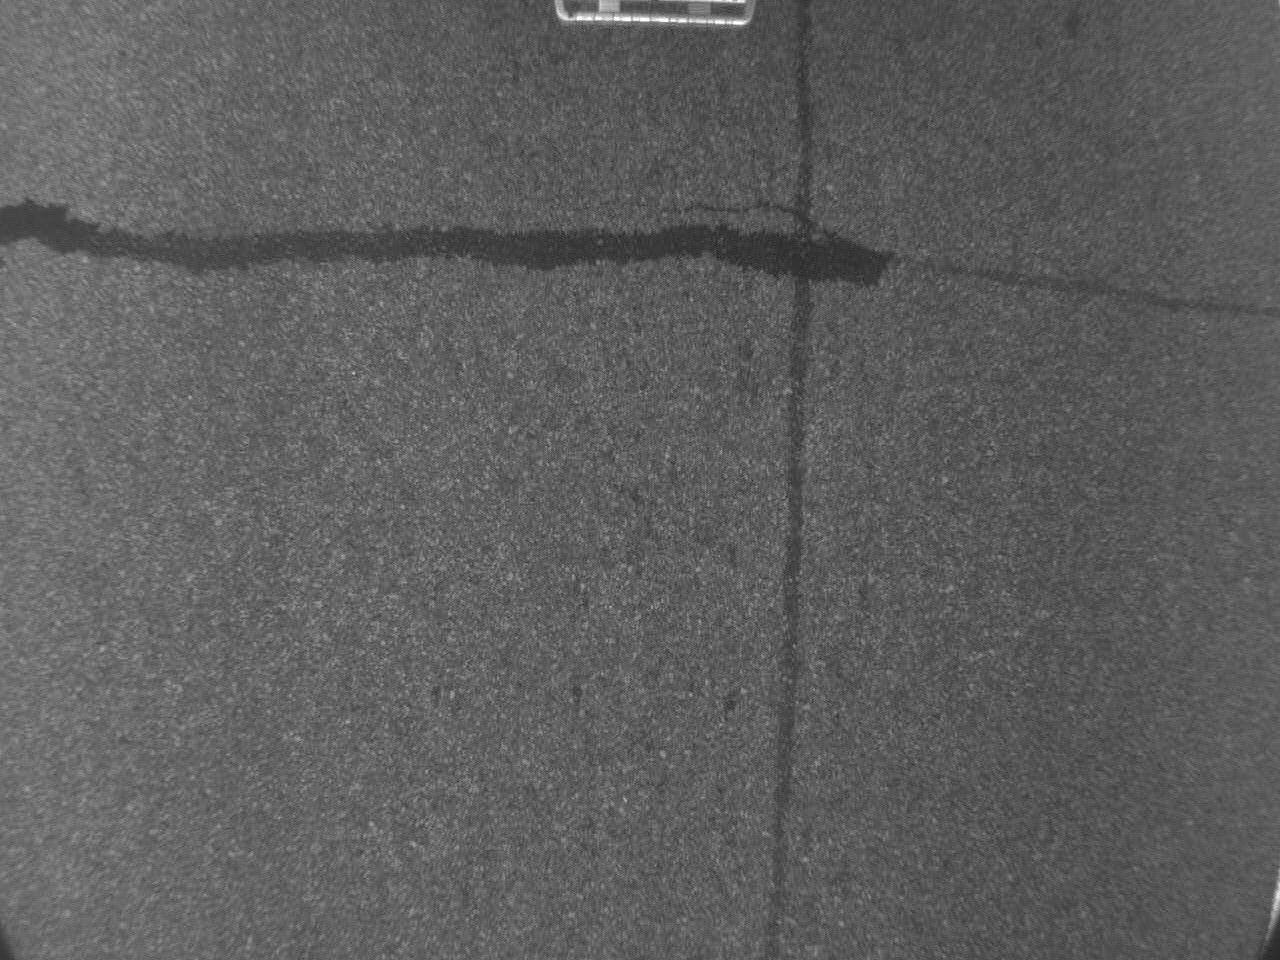sealed: (1, 192, 947, 322)
